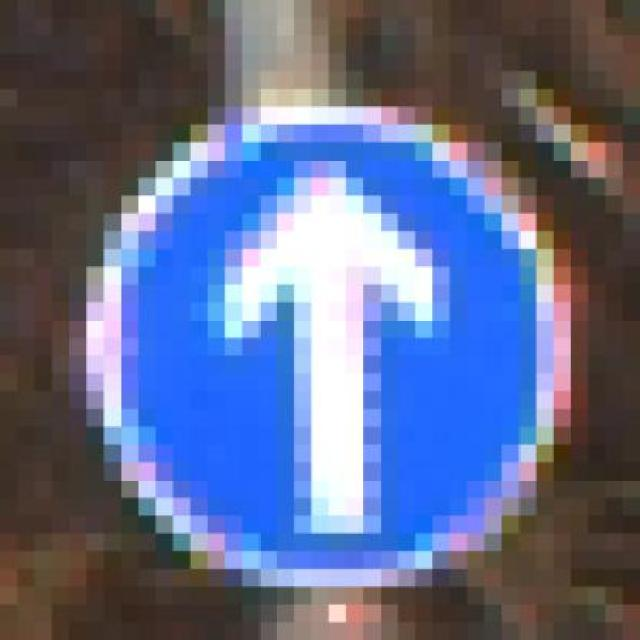Straight Ahead Only: (69, 70, 588, 604)
